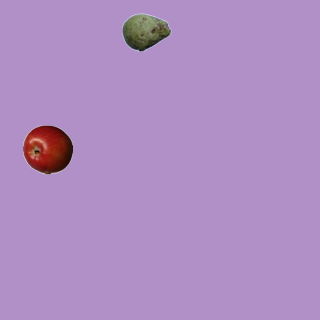Apple Braeburn: (22, 124, 72, 174)
Pear Stone: (121, 7, 171, 57)
